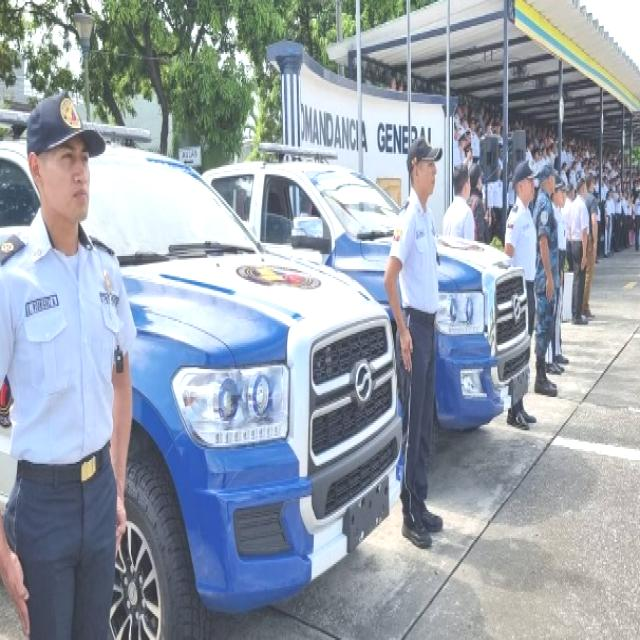CMT: (6, 140, 413, 634)
